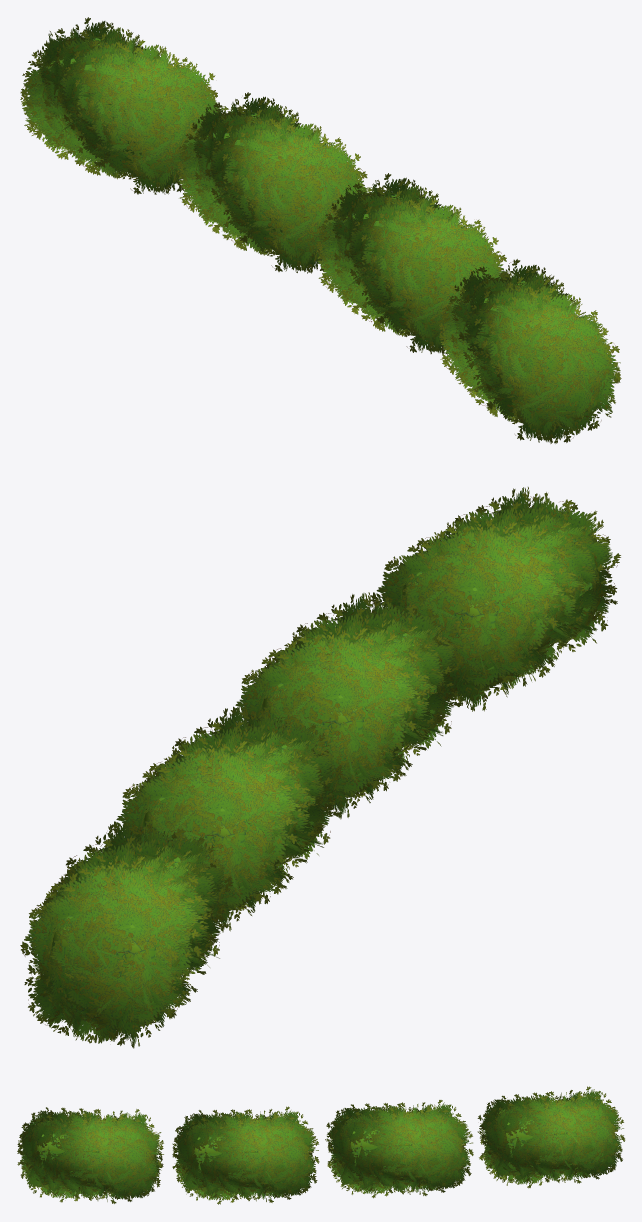
File: SM_Bush06_Splines_19.fbx
3 views of the same model, one above another, from view 1: azimuth 30°, elevation 25°; view 2: azimuth 150°, elevation 25°; view 3: azimuth 270°, elevation 25° (orthographic). The views are drawn at different scales.
Visible parts, largest first — view 1: SM_Bush06_Splines_19_LOD0; view 2: SM_Bush06_Splines_19_LOD0; view 3: SM_Bush06_Splines_19_LOD0.
Boxes of the visible parts, left/top/right/bottom form: SM_Bush06_Splines_19_LOD0: left=20, top=17, right=621, bottom=443; SM_Bush06_Splines_19_LOD0: left=20, top=487, right=620, bottom=1048; SM_Bush06_Splines_19_LOD0: left=17, top=1086, right=625, bottom=1204.
Bounding box in the file's own units: 251 × 1047 × 166.
